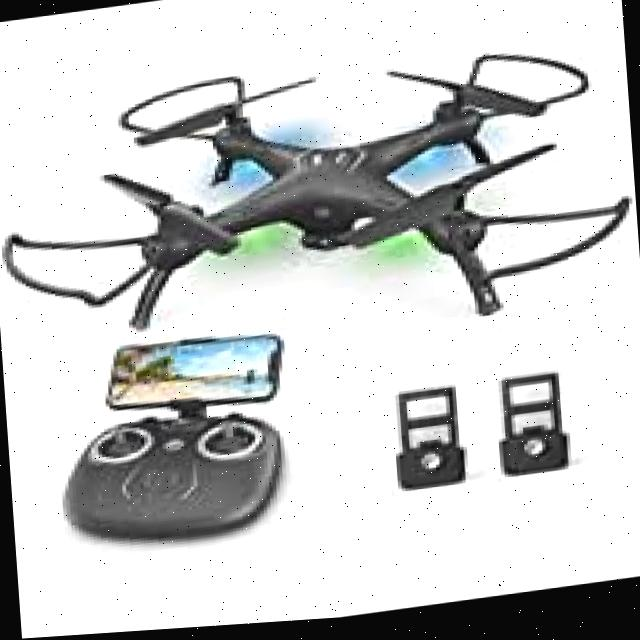drone: (0, 12, 640, 388)
